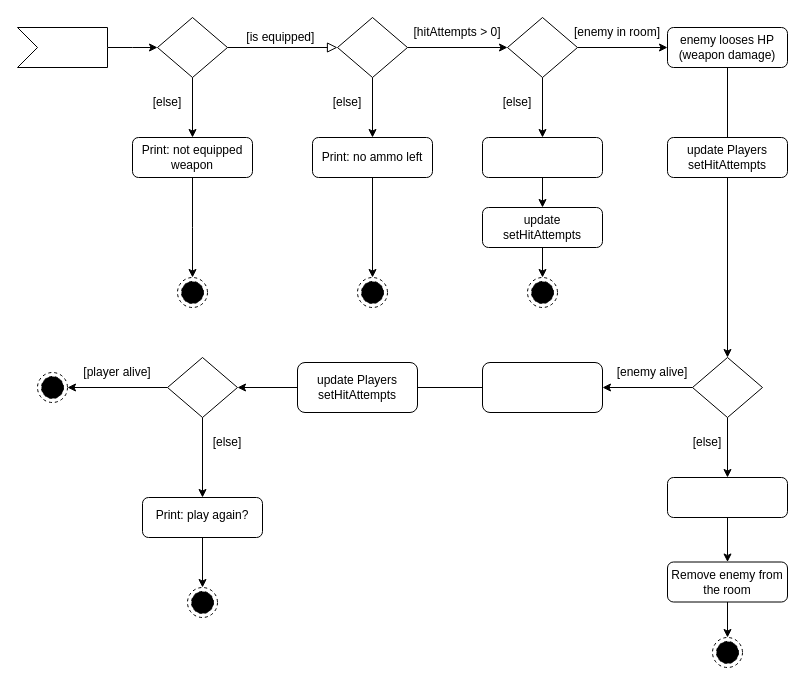
This 805x685 diagram has some shape labels left out. The centre of each missing label's shape, as x and y in pixels:
"attack" goes at (x=62, y=47).
"enemy's weapon --> item in room" goes at (x=727, y=497).
"player looses HP (enemy´s weapon damage)" goes at (x=542, y=387).
"Print: you attacked the air" goes at (x=542, y=157).
